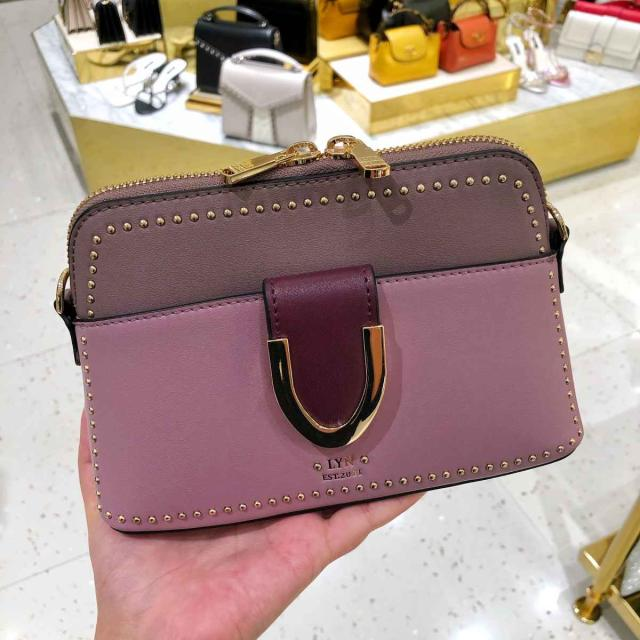handbag: (51, 124, 600, 536)
